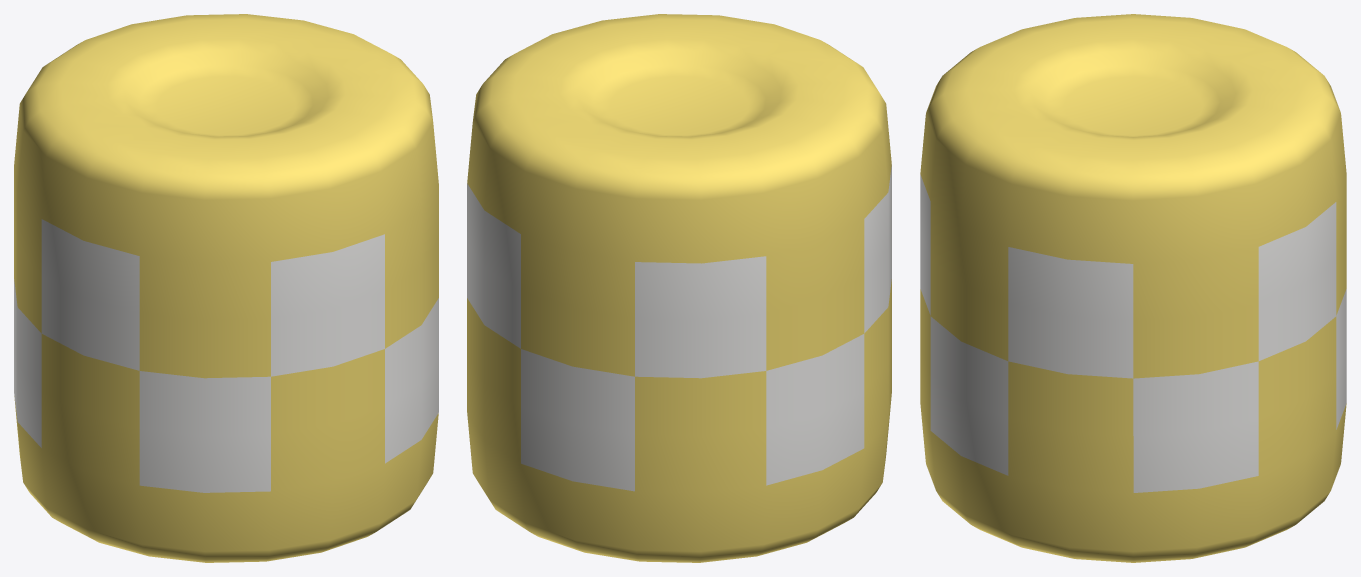
The model's file is Ottoman_2.glb.
3 views of the same model, side by side, from view 1: azimuth 30°, elevation 25°; view 2: azimuth 150°, elevation 25°; view 3: azimuth 270°, elevation 25° (orthographic).
Parts seen in each view (by area): view 1: Ottoman_2; view 2: Ottoman_2; view 3: Ottoman_2.
Part boxes in pixels (x1,y1,x2,y2): Ottoman_2: (14,14,438,562); Ottoman_2: (467,14,891,562); Ottoman_2: (920,14,1346,562).
Size of the model in its own units: 0.5461 by 0.5616 by 0.5461.
Materials: 1 (1 with a texture image).
